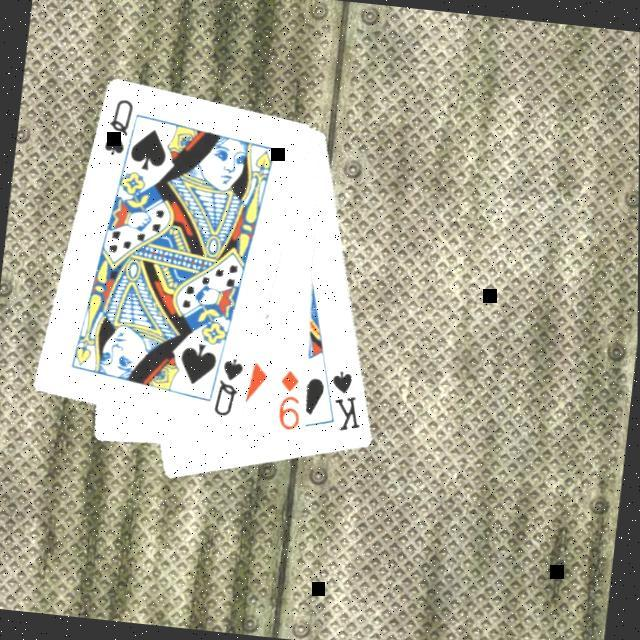9D: (274, 368, 308, 437)
KS: (325, 368, 372, 438)
QS: (212, 356, 249, 424), (101, 96, 139, 162)
